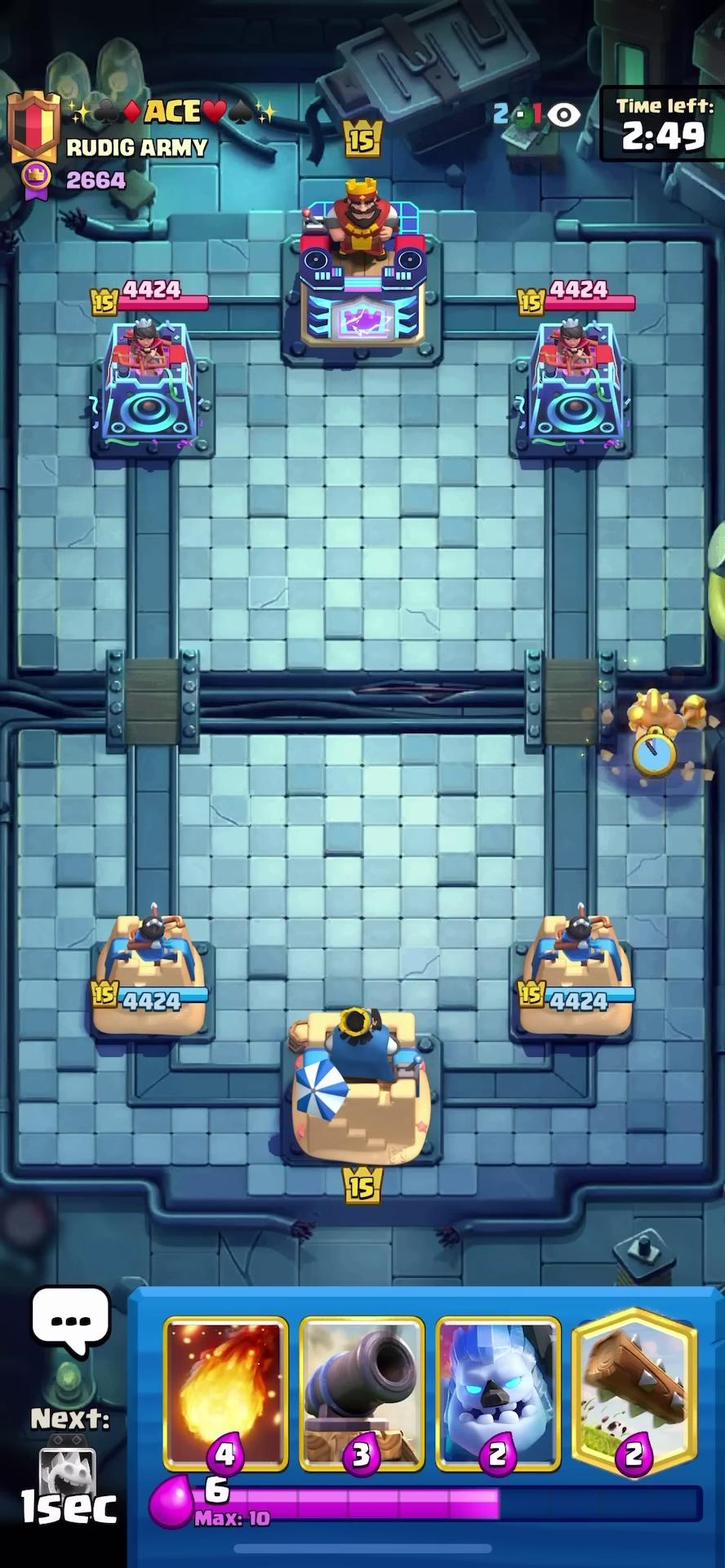hog_rider: (608, 674, 706, 757)
